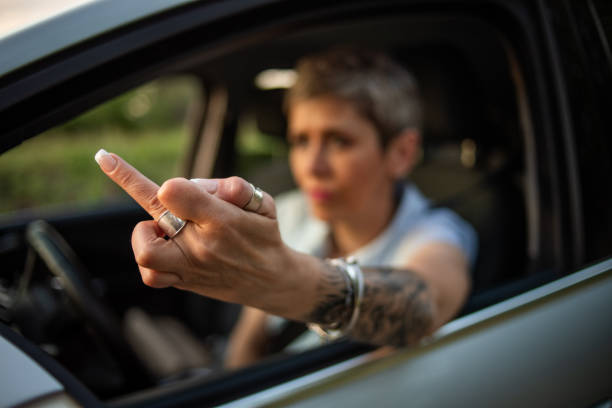insulting_gesture: (90, 139, 292, 309)
